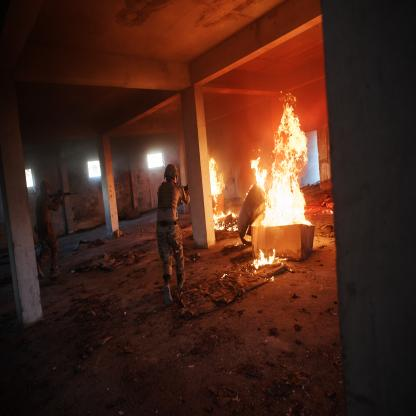fire: (249, 94, 316, 234), (207, 159, 238, 232), (254, 249, 283, 270)
smoke: (97, 15, 334, 201)
